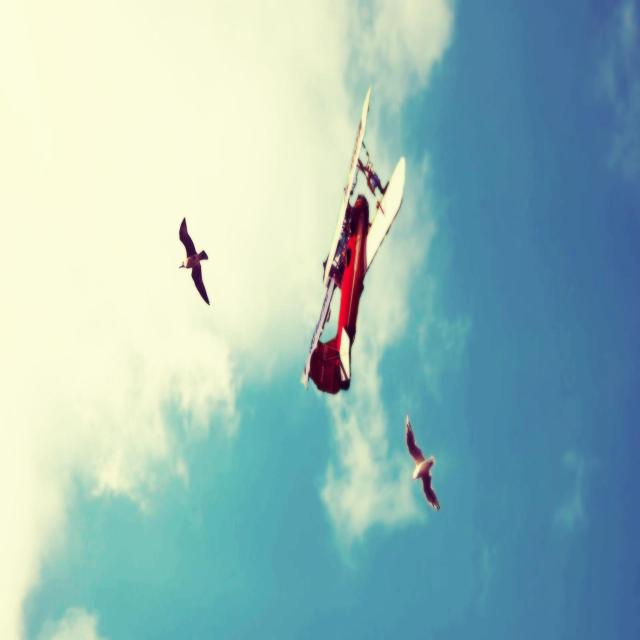airplane: (300, 84, 406, 394)
